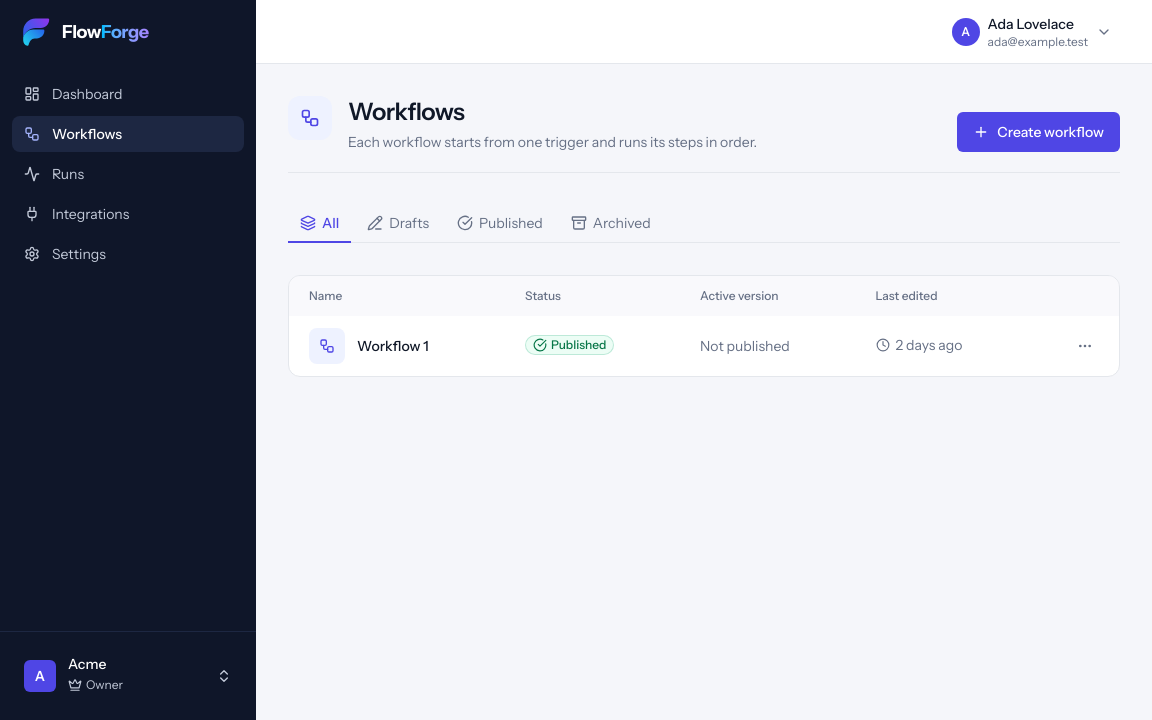
Test: Workflows list (Part 04) › archives after a confirmation that explains the consequences
Click the button named "Actions for Workflow 1" at (1085, 346), box [1071,332,1099,360]
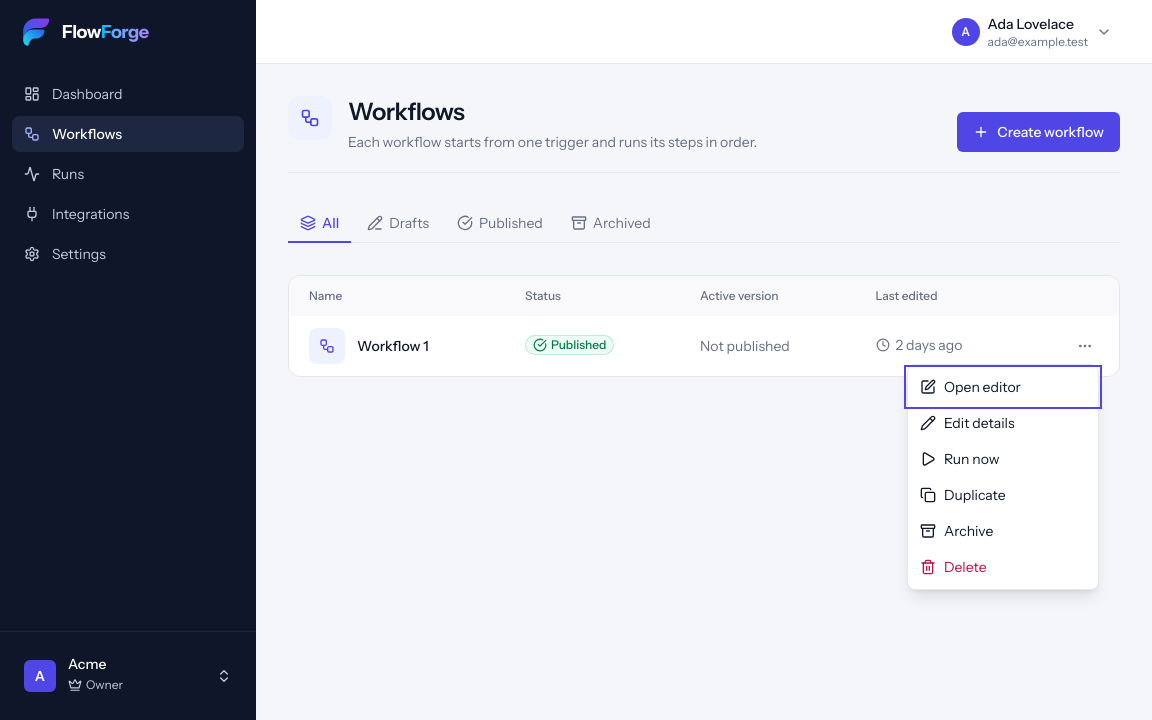
Click the menu item "Archive" at (1003, 531), box [908,513,1098,549]
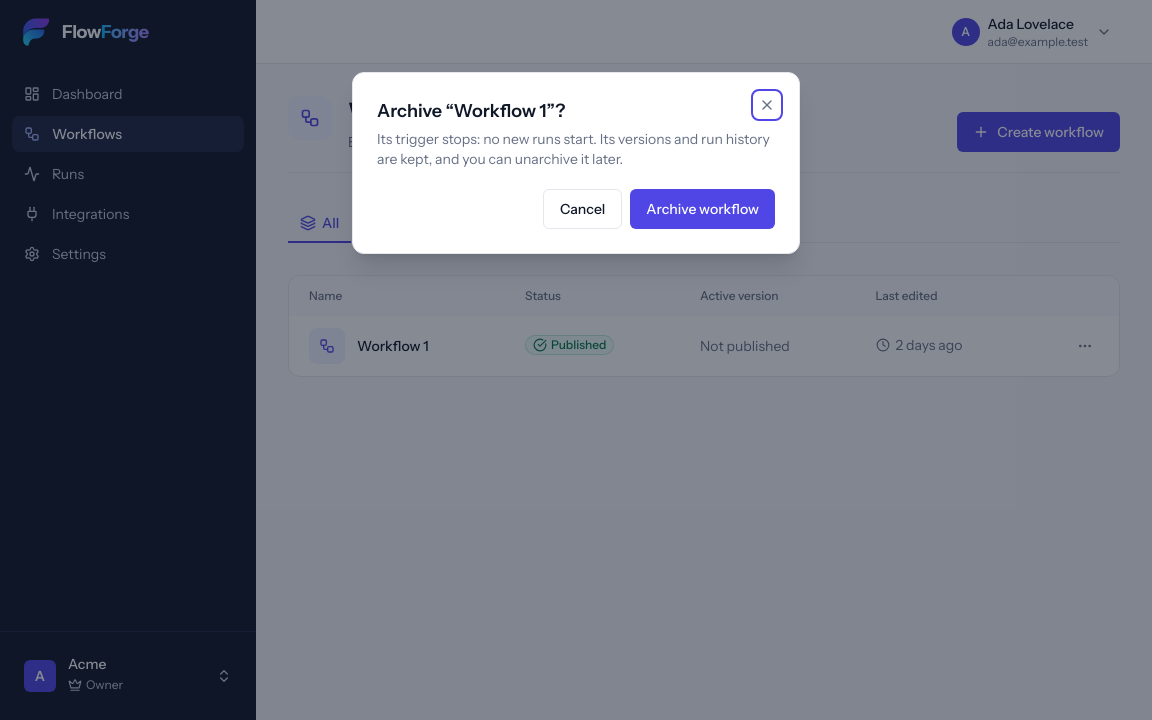
Expected: the dialog "Archive “Workflow 1”?" shows "no new runs start", [377,130,770,168]
Click the button "Archive workflow" at (703, 209), box [630,189,775,229]
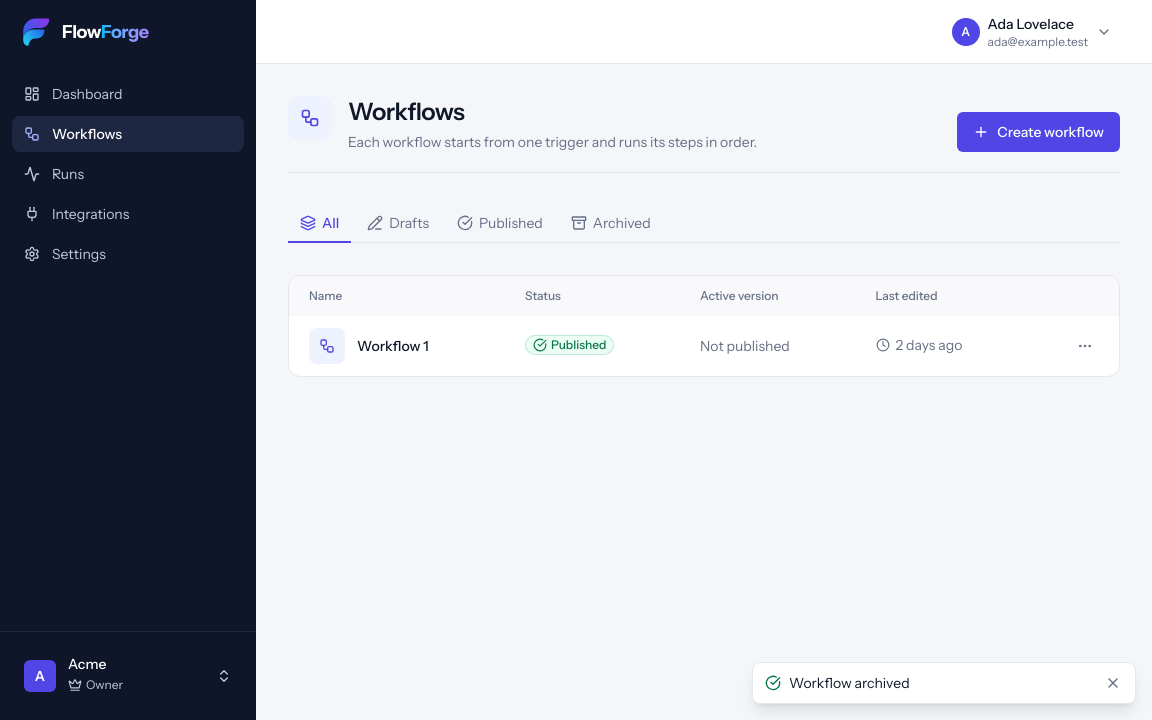
Expected: the dialog is gone
